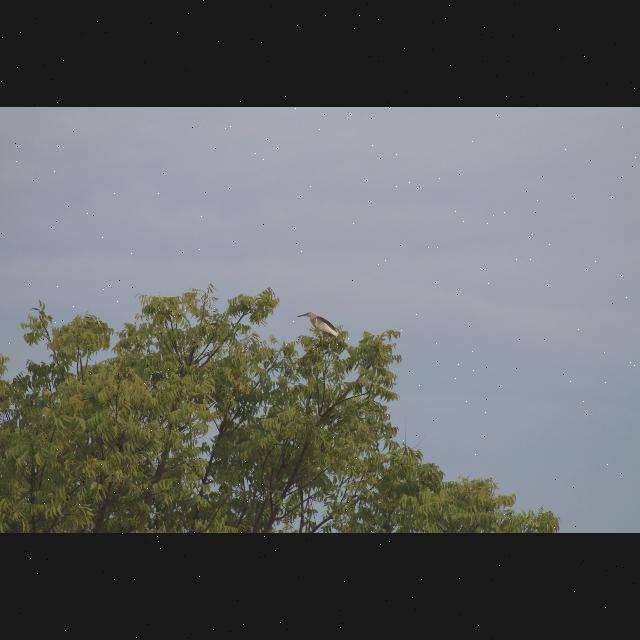heron: (293, 308, 345, 346)
